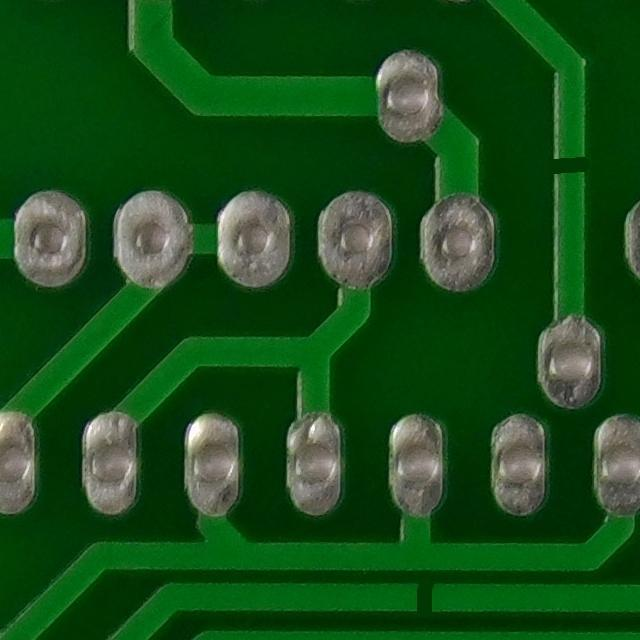open_circuit: (535, 135, 592, 191), (390, 568, 446, 622)
